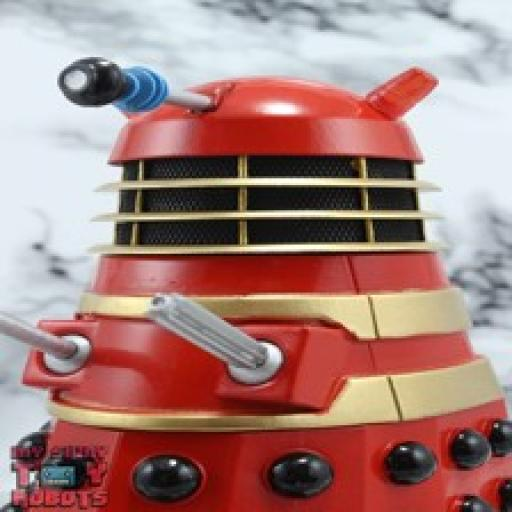dalek: (2, 52, 511, 512)
